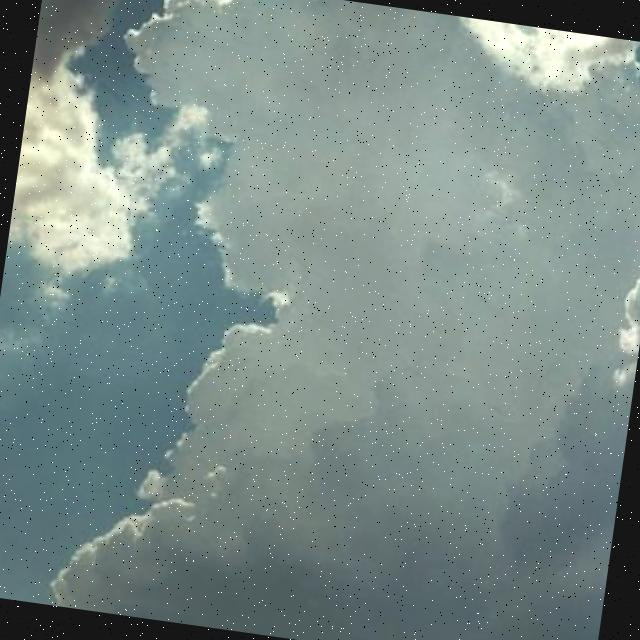Cb: (1, 1, 640, 623)
